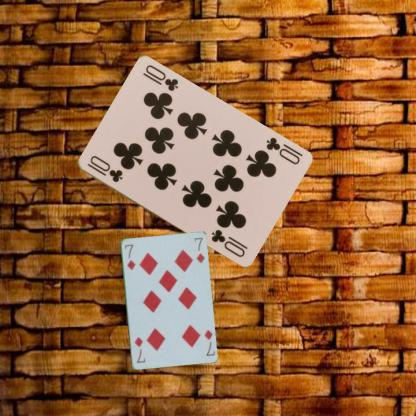10c: (84, 152, 124, 184), (263, 134, 301, 166)
7d: (122, 241, 136, 271), (202, 327, 216, 357)
